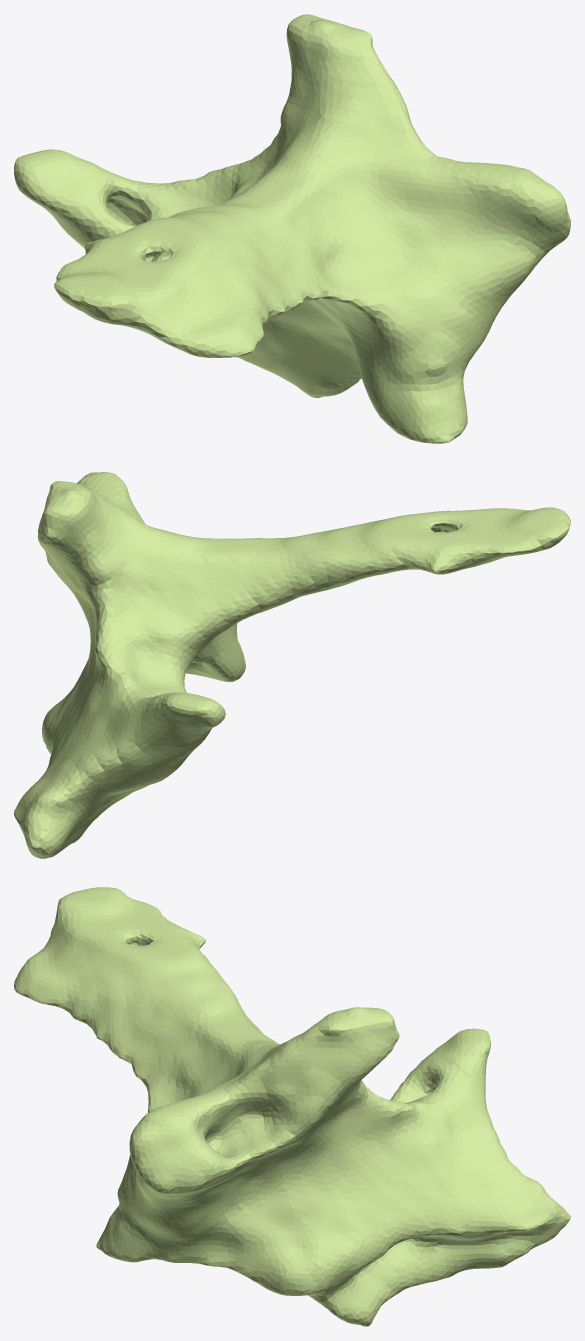
Rendered from Darch1.glb.
3 views of the same model, one above another, from view 1: azimuth 30°, elevation 25°; view 2: azimuth 150°, elevation 25°; view 3: azimuth 270°, elevation 25° (orthographic). The views are drawn at different scales.
Visible parts, largest first — view 1: Darch1; view 2: Darch1; view 3: Darch1.
Boxes of the visible parts, x1,y1,x2,y2 form: Darch1: [14, 14, 570, 443]; Darch1: [14, 472, 570, 858]; Darch1: [14, 887, 570, 1326].
Size of the model in its own units: 0.00583 by 0.0039 by 0.00621.
